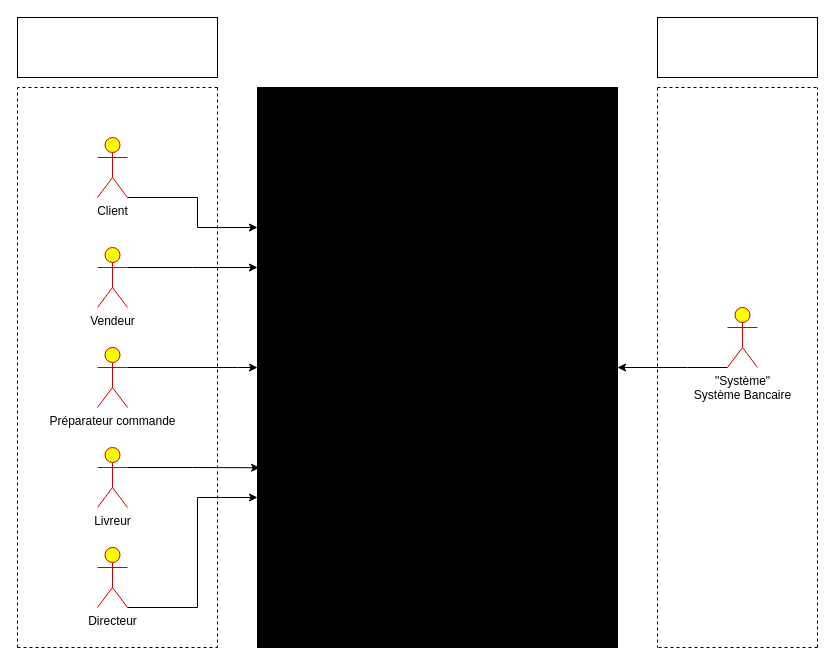
This 836x666 diagram has some shape labels left out. Here are the shapes that lost their labels. From the top down, the box of each, then its label:
(16, 16, 218, 78): Acteurs Principaux
(656, 16, 818, 78): Acteurs Secondaires
(256, 86, 618, 648): System
